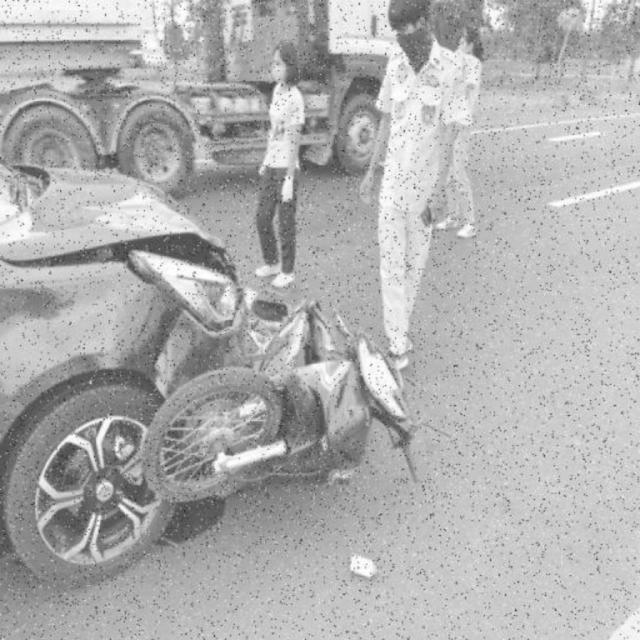accident: (4, 179, 394, 570)
person: (369, 0, 452, 354), (251, 43, 315, 284), (444, 20, 500, 230)
